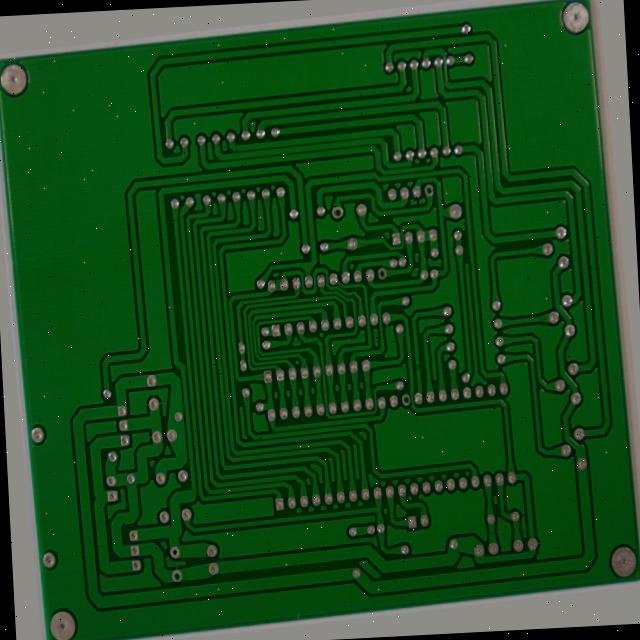missing_hole: (379, 266, 395, 285), (431, 181, 447, 199), (334, 198, 349, 217), (399, 401, 414, 419), (153, 573, 167, 590)
